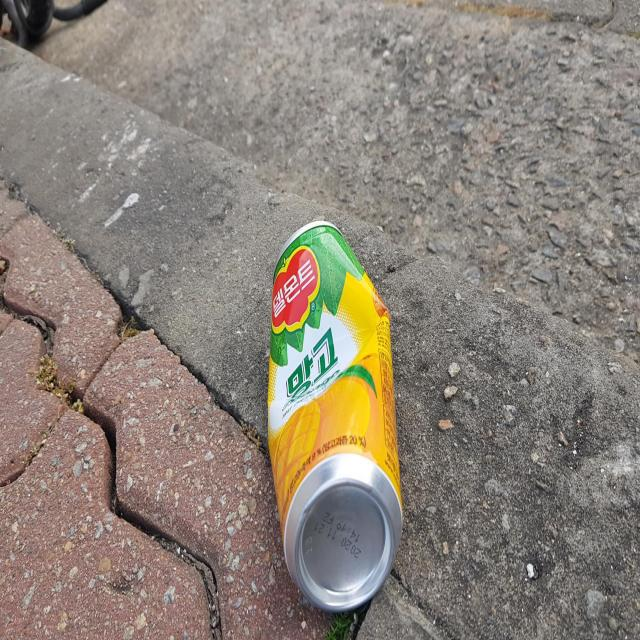can: (268, 220, 403, 612)
